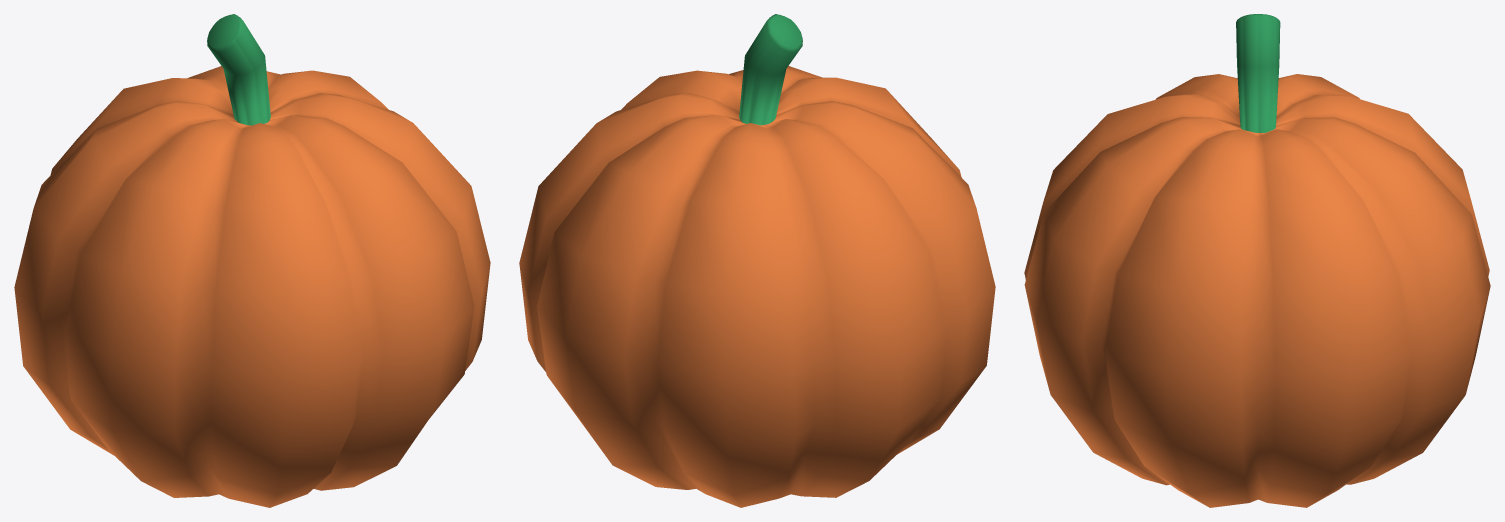
File: pumpkin.glb
3 renders of one model, left to right at view 1: azimuth 30°, elevation 25°; view 2: azimuth 150°, elevation 25°; view 3: azimuth 270°, elevation 25°, orthographic.
Visible parts, largest first — view 1: Sphere; view 2: Sphere; view 3: Sphere.
Part boxes in pixels (box(x1,y1,x2,y2)): Sphere: box(14, 14, 490, 507); Sphere: box(519, 14, 995, 507); Sphere: box(1024, 14, 1490, 507).
Bounding box in the file's own units: 0.631 × 0.6704 × 0.6461.
